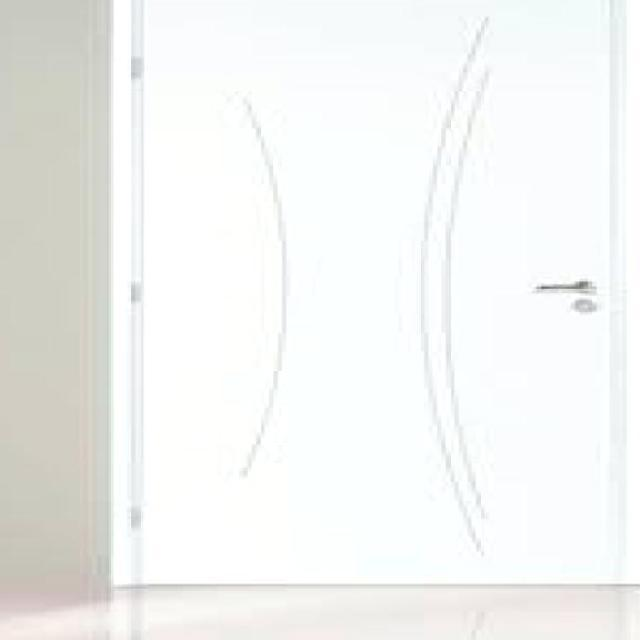door: (113, 0, 639, 588)
